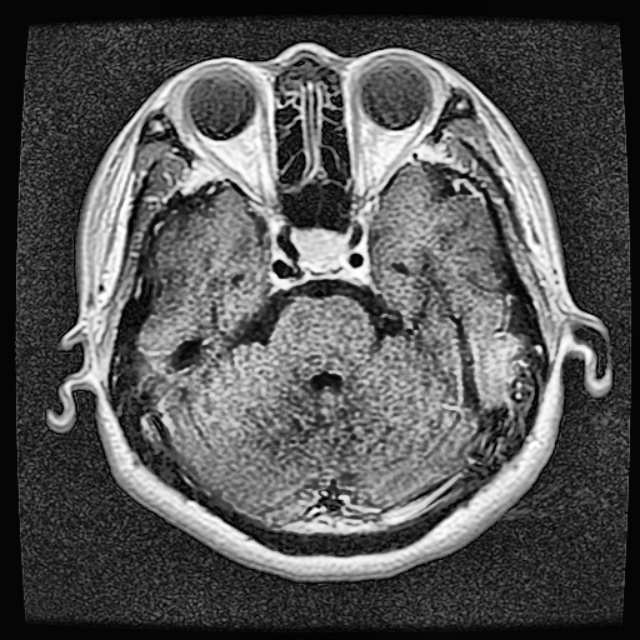Pituitary: (293, 229, 347, 270)
